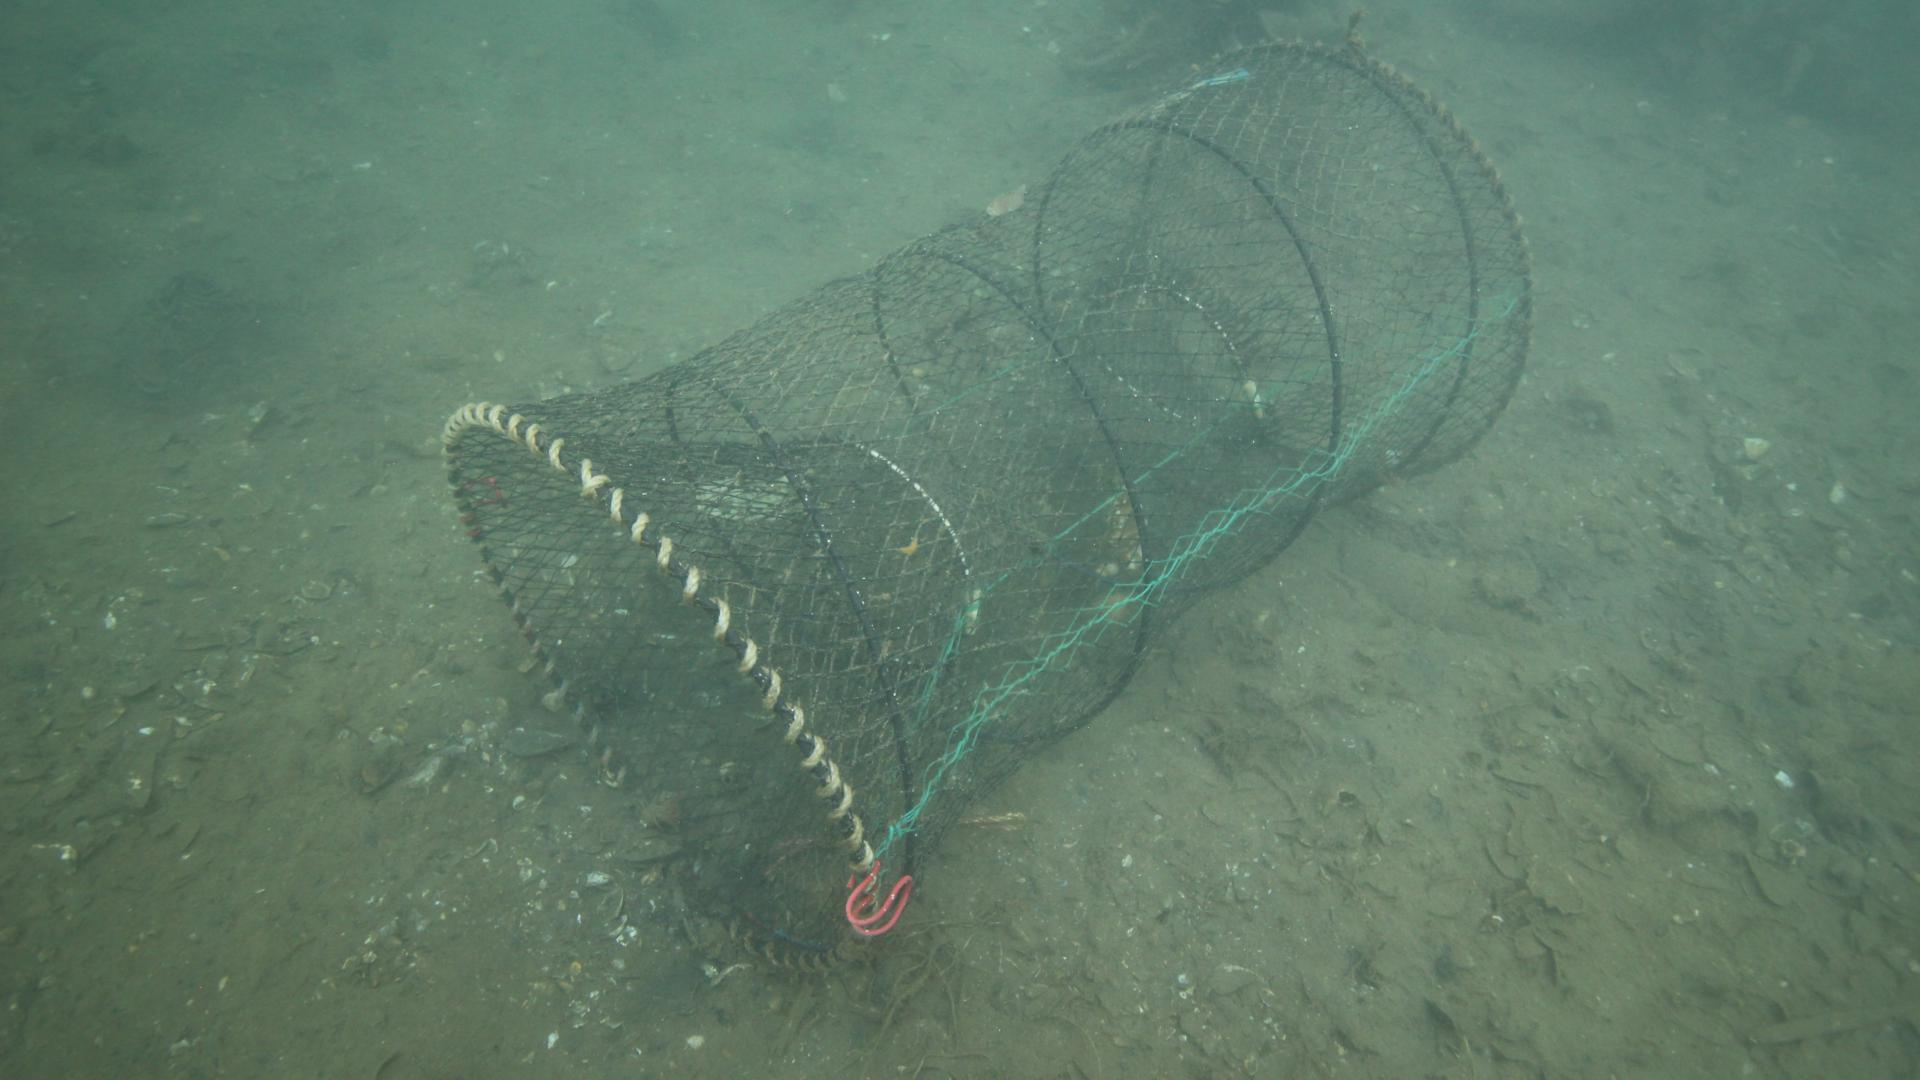spring fish trap: (443, 36, 1540, 972)
